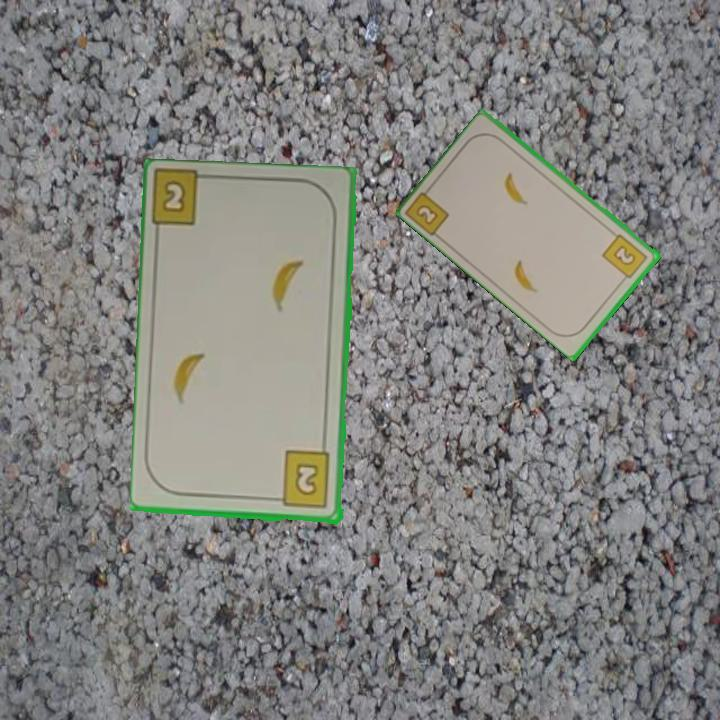2b: (270, 448, 333, 511), (599, 230, 651, 285), (404, 181, 453, 239), (159, 177, 189, 216)
